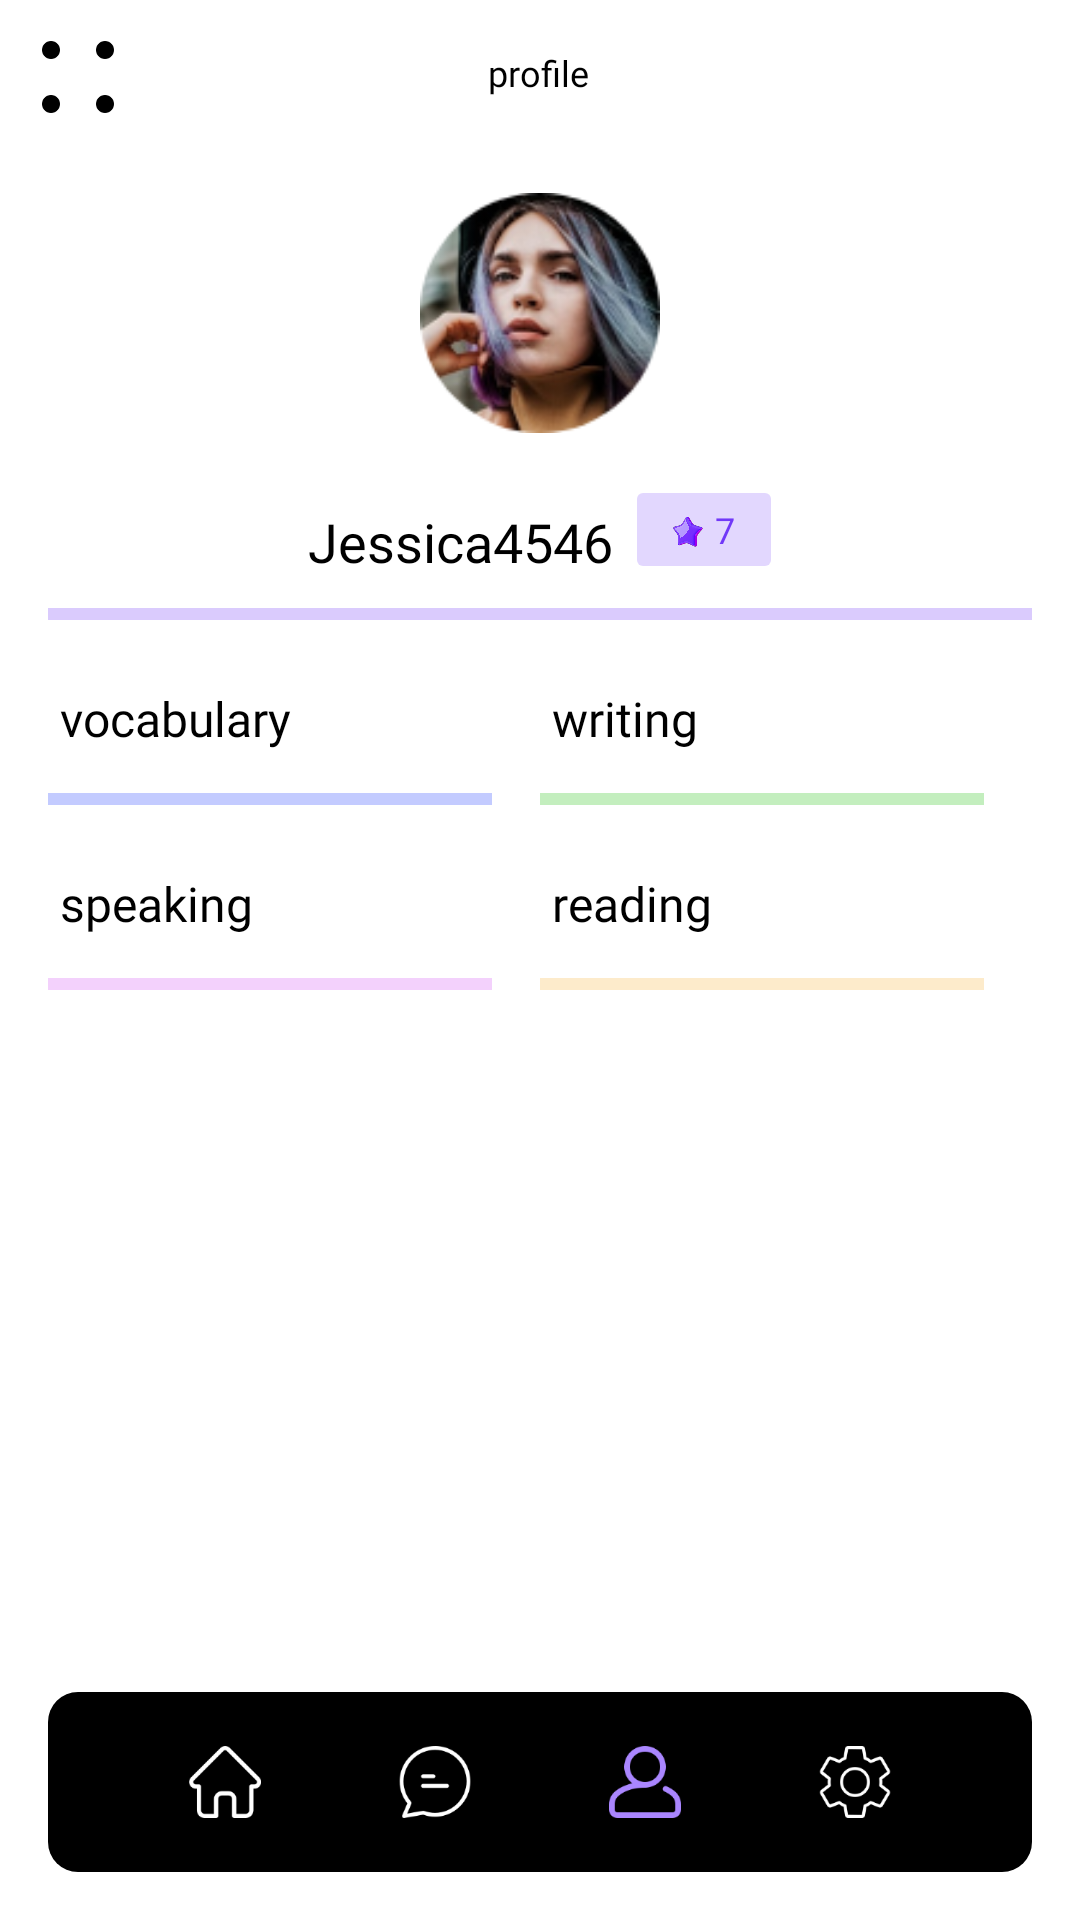

Where to tap for icons on this 1080 × 1920 app screen, as (x=x, y=y):
chatw: (x=435, y=1782)
homew: (x=225, y=1782)
menuicon: (x=78, y=77)
profilep: (x=645, y=1782)
settingsw: (x=855, y=1782)
star: (x=688, y=532)
